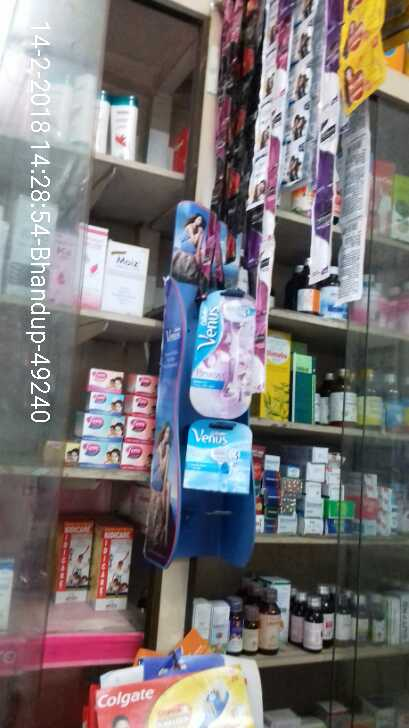venus: (193, 289, 253, 418), (184, 419, 257, 496)
